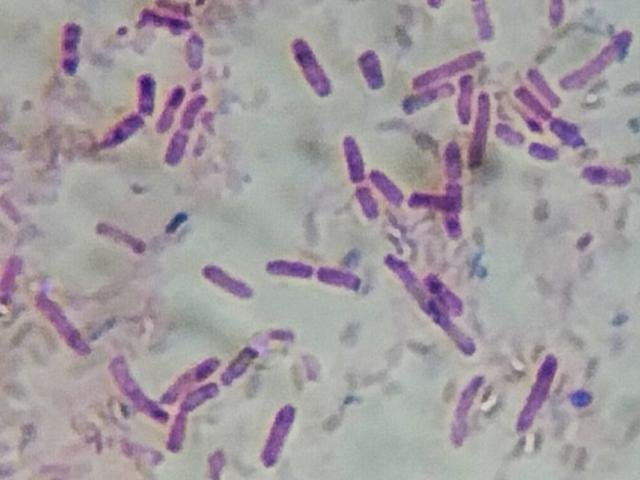E. coli: (557, 32, 638, 100), (521, 347, 568, 436), (35, 292, 93, 361), (108, 358, 161, 426), (447, 368, 487, 450), (291, 34, 334, 99), (429, 306, 481, 359), (262, 399, 298, 468), (442, 150, 470, 236), (98, 209, 148, 257), (202, 262, 254, 306), (385, 251, 424, 305), (99, 107, 146, 150), (50, 21, 85, 75), (318, 258, 367, 294), (573, 161, 631, 191), (412, 50, 494, 70), (524, 67, 562, 109), (338, 131, 369, 182), (473, 88, 492, 169), (428, 274, 468, 310), (265, 249, 311, 279), (403, 89, 457, 113), (368, 164, 400, 204), (179, 88, 206, 133), (130, 70, 158, 112), (410, 189, 457, 214), (358, 49, 385, 92), (540, 0, 573, 35), (156, 79, 177, 129), (473, 0, 501, 37), (517, 85, 548, 117), (553, 117, 586, 145), (357, 184, 381, 221), (169, 125, 191, 162), (526, 137, 555, 165), (460, 77, 478, 121), (497, 118, 522, 149), (608, 145, 609, 145)
